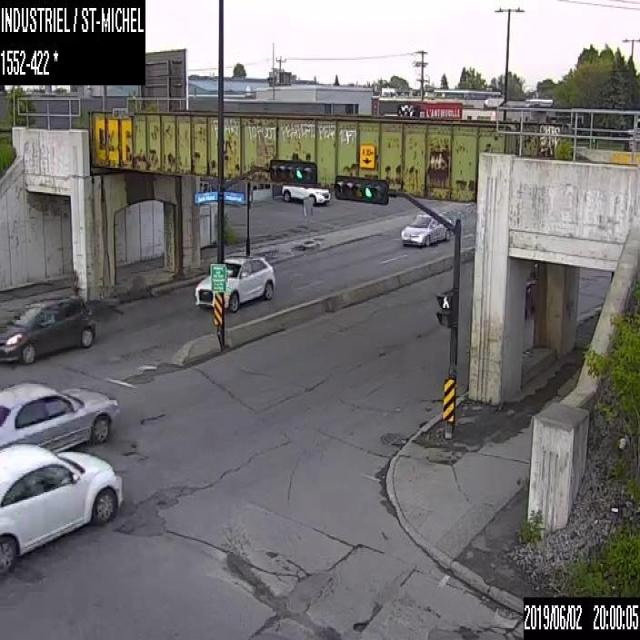vehicle: (0, 442, 124, 574), (0, 379, 117, 449), (0, 298, 96, 364), (194, 254, 277, 312), (399, 211, 453, 247), (281, 181, 331, 203)
